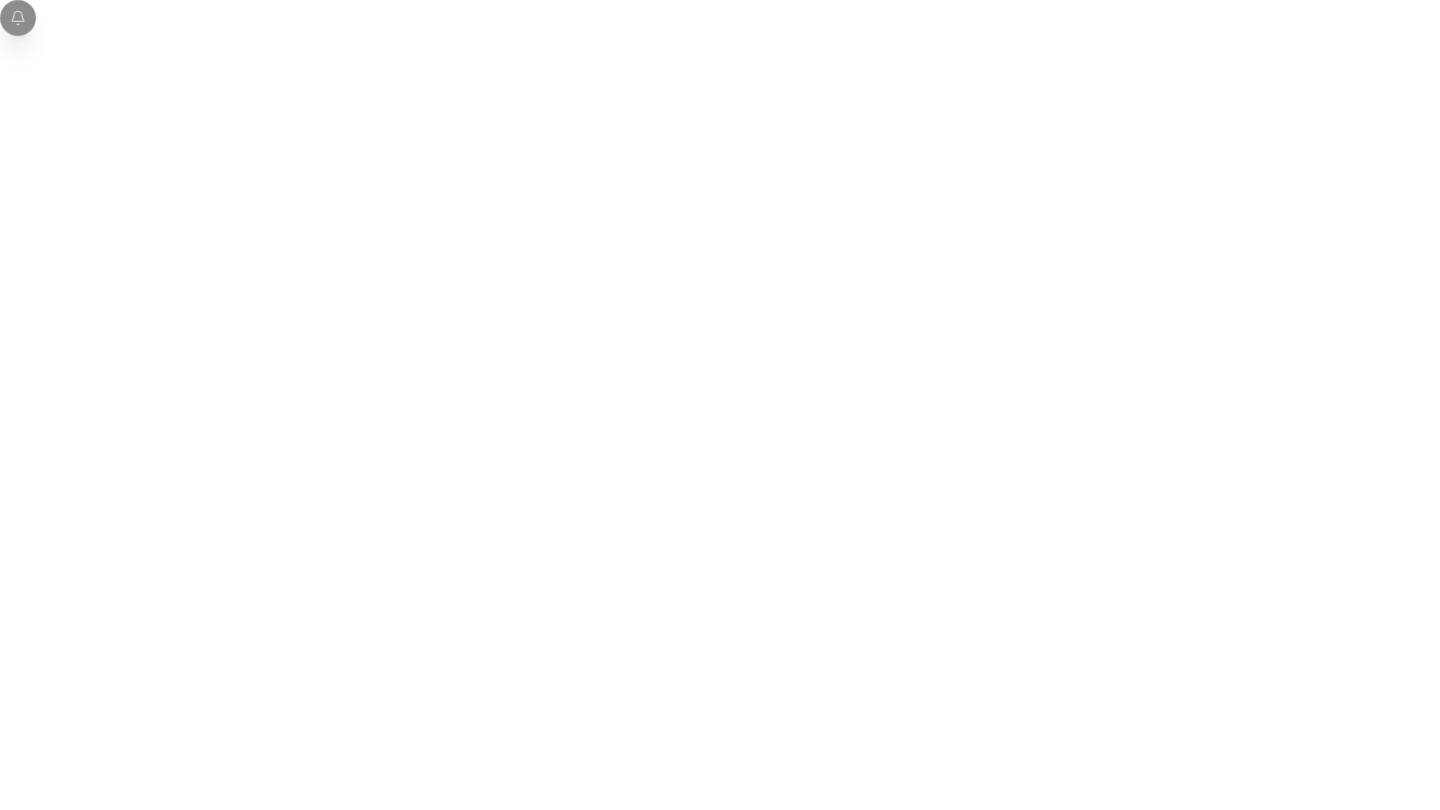
Scenario: durable task tray › shows a list failure as unavailable, never a false empty queue
The width and height of the screenshot is (1440, 810).
Click the button titled "公告与任务" at (18, 18), box [0,0,36,36]
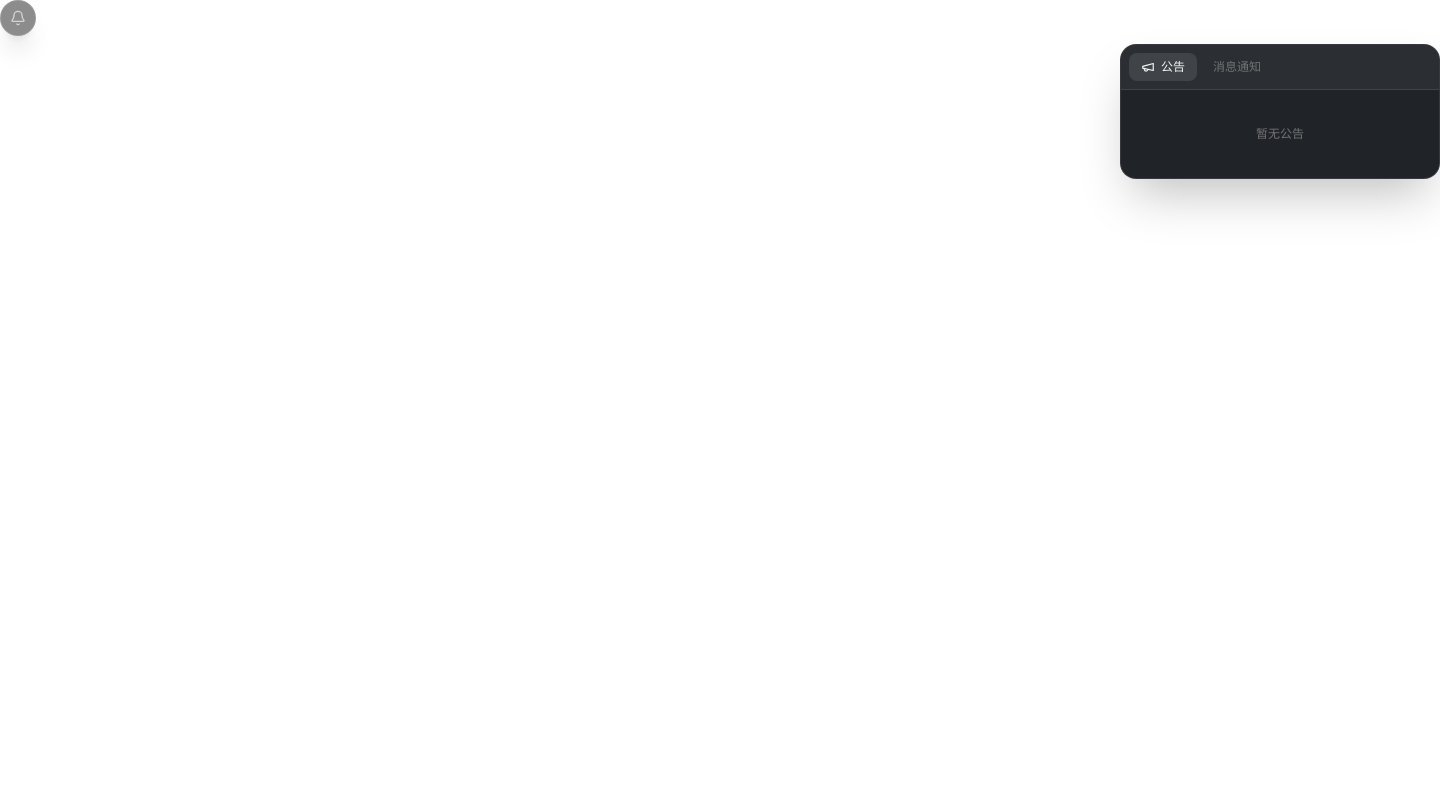
Click the button "消息通知" at (1237, 67), box [1201,53,1273,81]
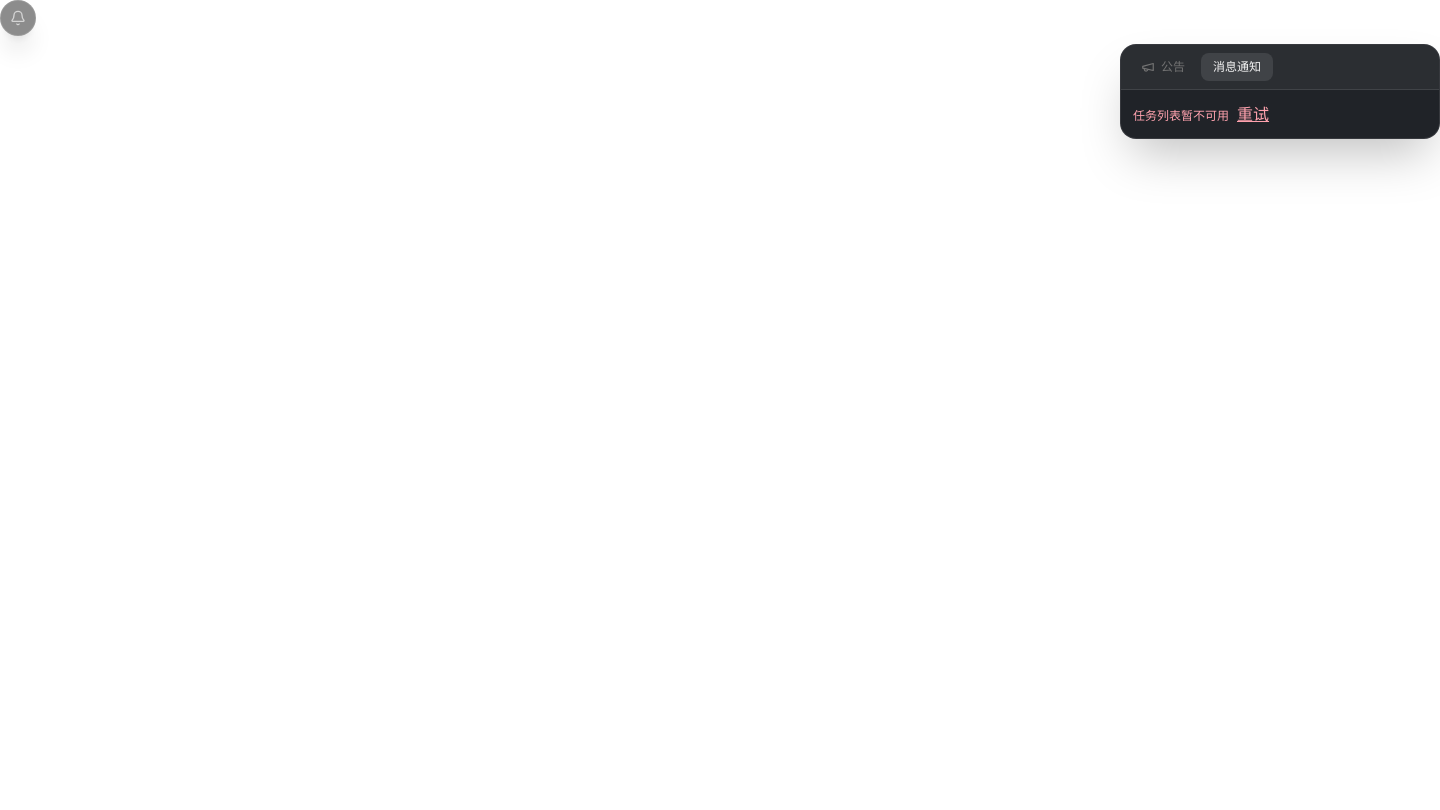
expect the message "任务列表暂不可用 重试" is shown: met, box [1133,102,1269,126]
